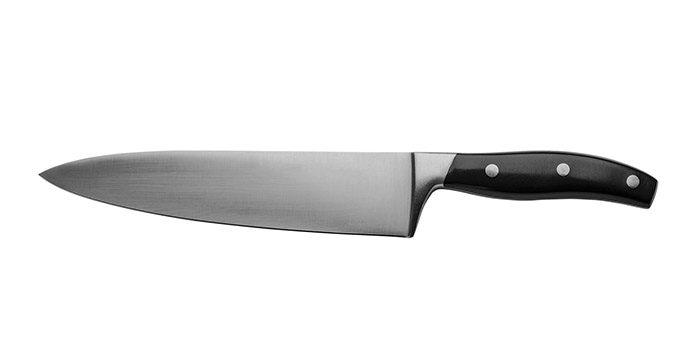Knife: (38, 149, 658, 238)
